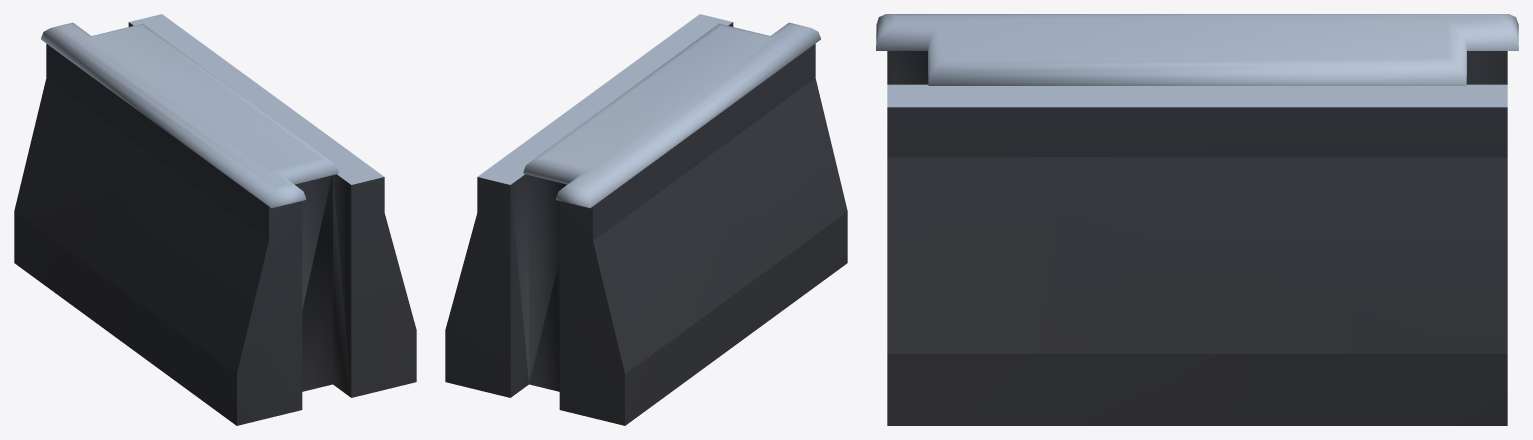
Rendered from barrier_k.glb.
3 renders of one model, left to right at view 1: azimuth 30°, elevation 25°; view 2: azimuth 150°, elevation 25°; view 3: azimuth 270°, elevation 25°, orthographic. The views are drawn at different scales.
Parts seen in each view (by area): view 1: Prop; view 2: Prop; view 3: Prop.
Boxes of the visible parts, bbox=[...] form: Prop: bbox=[14, 14, 416, 425]; Prop: bbox=[445, 14, 847, 425]; Prop: bbox=[876, 14, 1518, 425].
Size of the model in its own units: 1.05 by 1.27 by 2.33.
